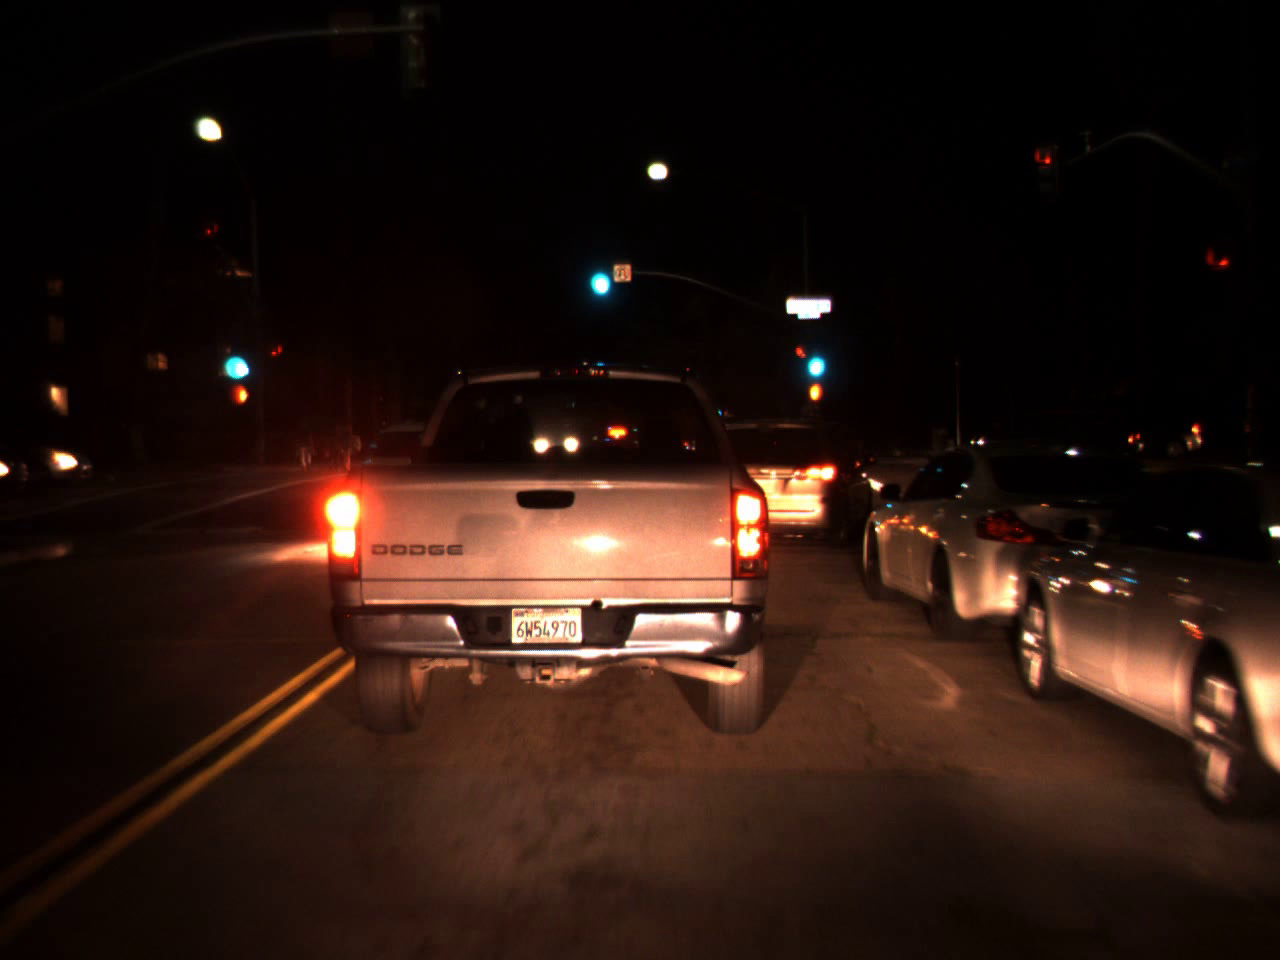go: (216, 328, 252, 388), (583, 244, 615, 304), (800, 331, 828, 385)
